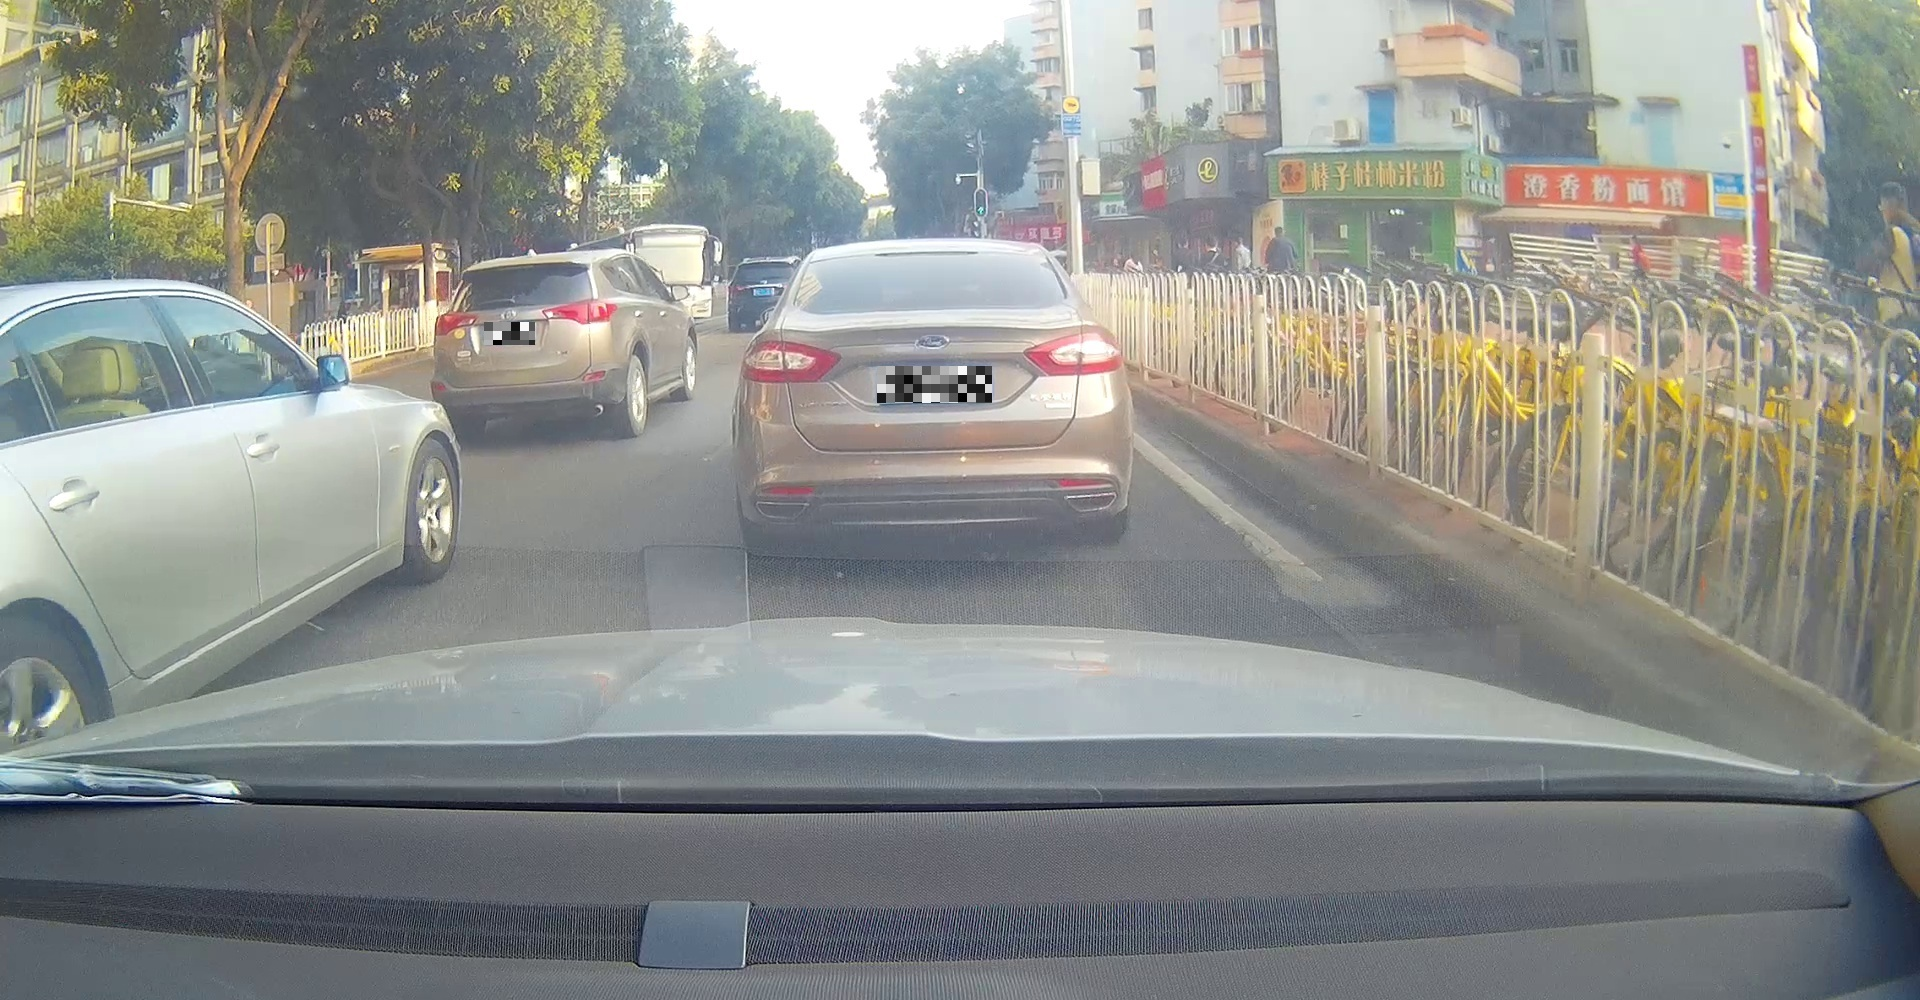L_light: (740, 339, 841, 383), (434, 313, 477, 335)
R_light: (1023, 331, 1123, 378), (542, 298, 616, 324)
T_light: (902, 254, 951, 261), (500, 270, 524, 275)
day-no: (738, 237, 1131, 544), (430, 253, 618, 438)
plate_1: (484, 322, 535, 345)
plate_2: (877, 365, 992, 404)
